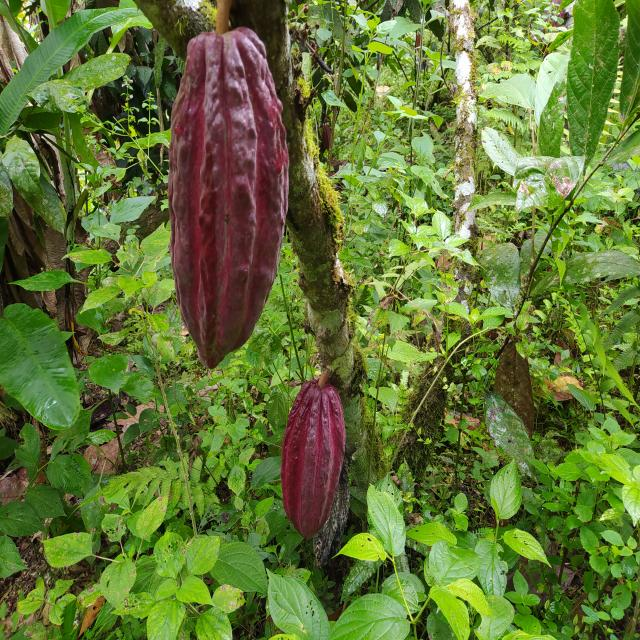Fitoftora: (313, 452, 351, 570)
Sana: (169, 20, 291, 371), (278, 380, 346, 538)
